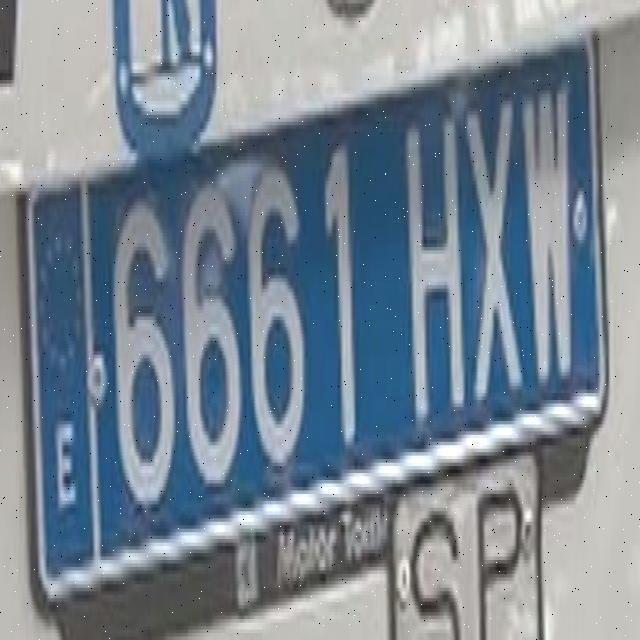LicensePlate: (23, 26, 610, 603)
